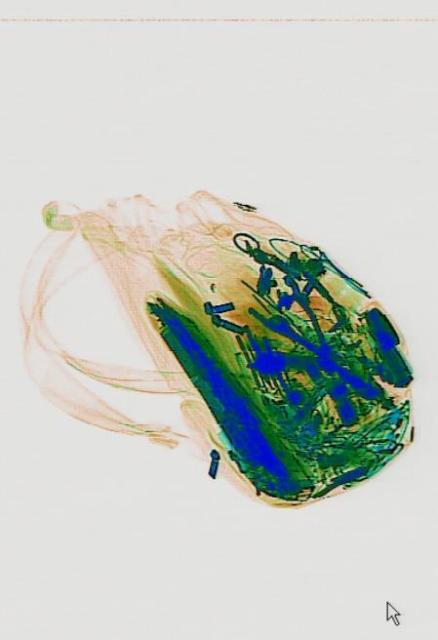Pliers: (244, 258, 363, 404)
